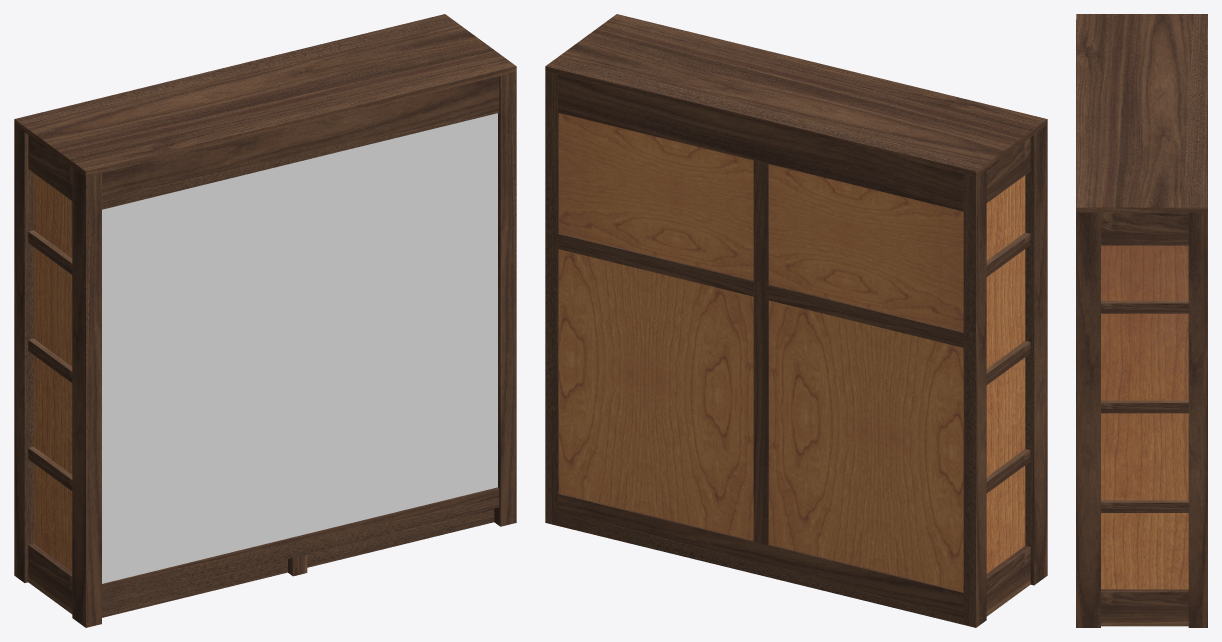
Rendered from john2.glb.
3 renders of one model, left to right at view 1: azimuth 30°, elevation 25°; view 2: azimuth 150°, elevation 25°; view 3: azimuth 270°, elevation 25°, orthographic. The views are drawn at different scales.
Visible parts, largest first — view 1: door.glass, top.001, door.legs.001, door.frame.top.001, box.006, door.frame-bottom.001, back.leg.002, front.frame.bottom.001, front.leg.001, side.divider.001, side.frame.bottom.001, back.leg.001 (+1 smaller); view 2: back.panel.bottom, back.panel.top, top.001, back.frame.top.001, back.leg.001, back.frame.bottom.001, box.006, front.leg.001, back.divider.x.001, back.divider.z.001, back.leg.002, door.legs.001 (+3 smaller); view 3: box.006, top.001, back.leg.002, front.leg.001, door.legs.001, side.divider.001, side.frame.bottom.001, side.frame.top.001, back.leg.001.
Part boxes in pixels (x1,y1,x2,y2): door.glass: [102, 113, 497, 583]; top.001: [14, 14, 516, 176]; door.legs.001: [79, 72, 516, 627]; door.frame.top.001: [102, 76, 499, 209]; box.006: [33, 173, 72, 571]; door.frame-bottom.001: [102, 487, 499, 603]; back.leg.002: [17, 127, 33, 582]; front.frame.bottom.001: [102, 508, 494, 617]; front.leg.001: [72, 167, 79, 622]; side.divider.001: [28, 230, 72, 490]; side.frame.bottom.001: [28, 543, 72, 613]; back.leg.001: [14, 125, 17, 577]; back.panel.bottom: [559, 249, 963, 591]; back.panel.top: [559, 113, 963, 331]; top.001: [545, 14, 1047, 176]; back.frame.top.001: [558, 75, 963, 211]; back.leg.001: [545, 72, 979, 627]; back.frame.bottom.001: [558, 493, 963, 624]; box.006: [986, 175, 1025, 573]; front.leg.001: [1025, 130, 1041, 585]; back.divider.x.001: [558, 233, 963, 347]; back.divider.z.001: [753, 160, 768, 544]; back.leg.002: [979, 169, 986, 625]; door.legs.001: [1041, 125, 1047, 579]; box.006: [1101, 245, 1188, 589]; top.001: [1076, 14, 1207, 212]; back.leg.002: [1188, 212, 1202, 627]; front.leg.001: [1087, 212, 1100, 627]; door.legs.001: [1076, 19, 1087, 627]; side.divider.001: [1101, 301, 1188, 512]; side.frame.bottom.001: [1101, 589, 1188, 626]; side.frame.top.001: [1101, 212, 1188, 245]; back.leg.001: [1202, 212, 1207, 627].
Bounding box in the file's own units: 1.52 × 1.54 × 0.4384.
5 materials, 2 textured.
